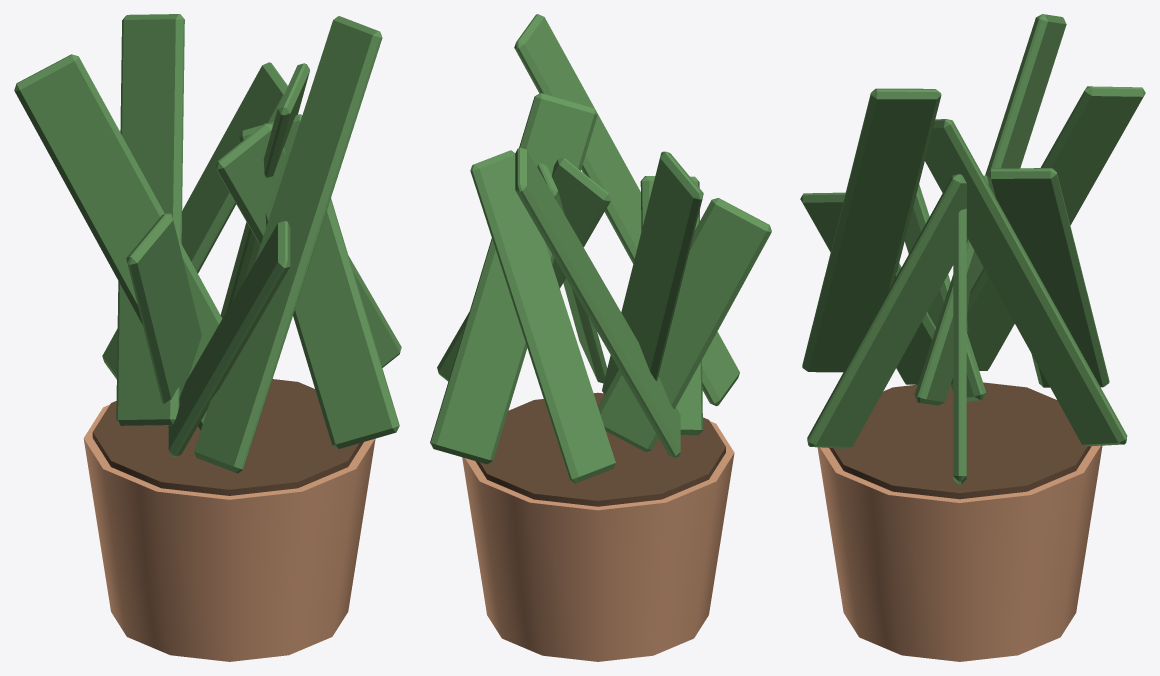
File: hm_plant.glb
The picture shows the model from 3 angles, left to right: view 1: azimuth 30°, elevation 25°; view 2: azimuth 150°, elevation 25°; view 3: azimuth 270°, elevation 25°; orthographic projection. The views are drawn at different scales.
Visible parts, largest first — view 1: hm_plant; view 2: hm_plant; view 3: hm_plant.
Boxes of the visible parts, x1=… form: hm_plant: x1=14, y1=14, x2=401, y2=661; hm_plant: x1=430, y1=14, x2=771, y2=661; hm_plant: x1=800, y1=14, x2=1145, y2=661.
Bounding box in the file's own units: 0.8476 × 1.42 × 0.7725.
